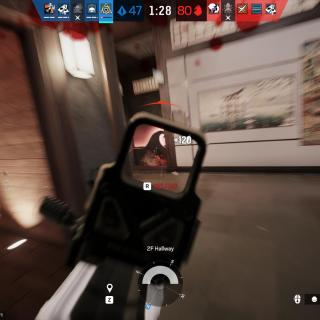Friend_label: (0, 169, 16, 181)
